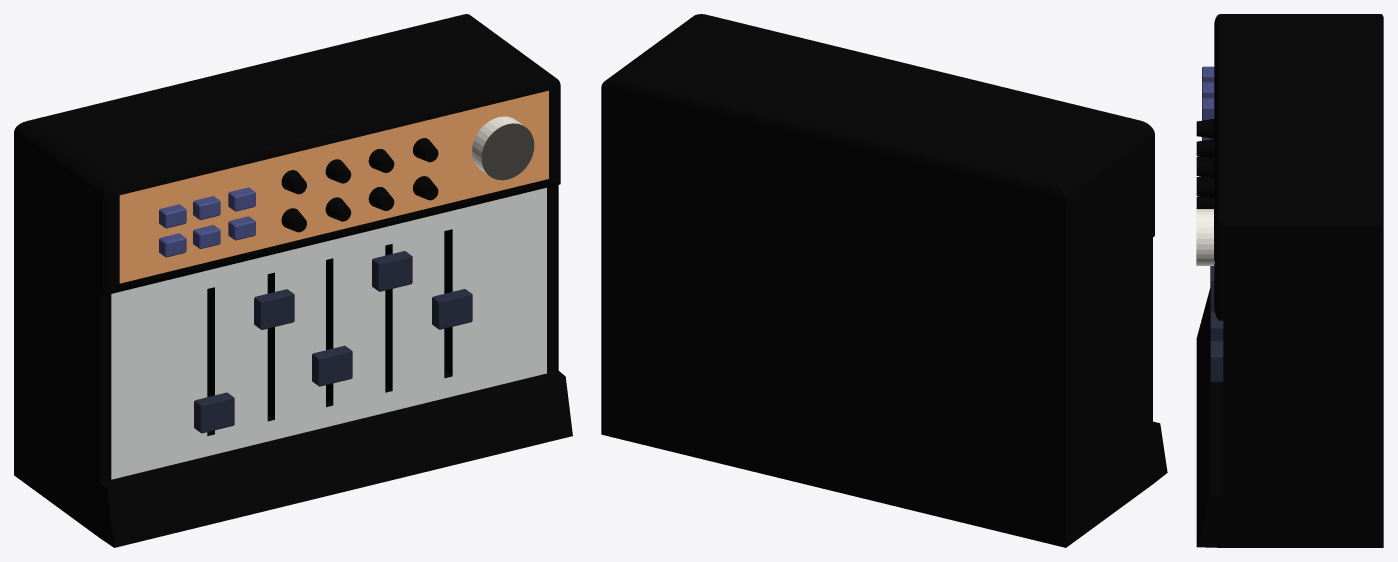
File: mixer5.fbx
The picture shows the model from 3 angles, left to right: view 1: azimuth 30°, elevation 25°; view 2: azimuth 150°, elevation 25°; view 3: azimuth 270°, elevation 25°; orthographic projection. The views are drawn at different scales.
Parts seen in each view (by area): view 1: Cube, Cube.003, Cylinder; view 2: Cube; view 3: Cube, Cube.003, Cylinder, Cylinder.002, Cylinder.001, Cylinder.006, Cylinder.005, Cube.005.
Boxes of the visible parts, x1,y1,x2,y2 form: Cube: [14, 14, 572, 547]; Cube.003: [194, 251, 472, 433]; Cylinder: [472, 116, 534, 180]; Cube: [601, 14, 1167, 547]; Cube: [1196, 14, 1383, 547]; Cube.003: [1210, 234, 1223, 382]; Cylinder: [1196, 209, 1214, 265]; Cylinder.002: [1196, 158, 1214, 178]; Cylinder.001: [1196, 178, 1214, 198]; Cylinder.006: [1196, 119, 1214, 138]; Cylinder.005: [1196, 139, 1214, 158]; Cube.005: [1202, 98, 1214, 120].
Bounding box in the file's own units: 193 × 143 × 73.45.
